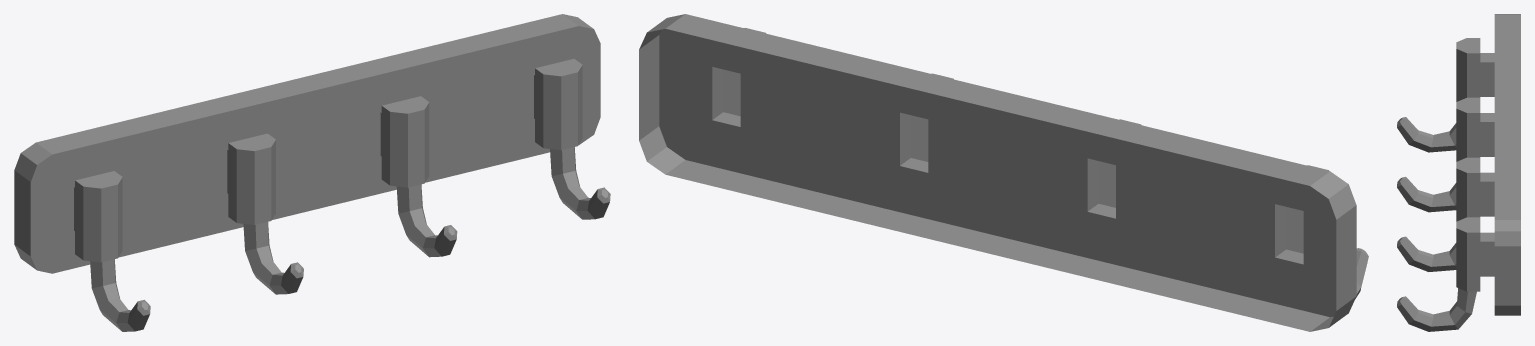
Rendered from Int_ShowerHook01.fbx.
The picture shows the model from 3 angles, left to right: view 1: azimuth 30°, elevation 25°; view 2: azimuth 150°, elevation 25°; view 3: azimuth 270°, elevation 25°; orthographic projection. The views are drawn at different scales.
Visible parts, largest first — view 1: Int_ShowerHook01; view 2: Int_ShowerHook01; view 3: Int_ShowerHook01.
Part boxes in pixels (x1,y1,x2,y2): Int_ShowerHook01: (14,14,610,331); Int_ShowerHook01: (639,14,1368,331); Int_ShowerHook01: (1397,14,1520,331).
Size of what is drawn, in the model's own units: 65.13 by 15.35 by 16.85.
